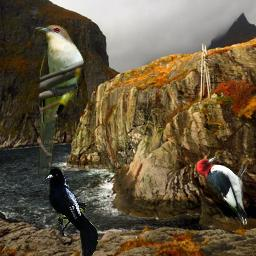Crow: (45, 167, 98, 256)
Cuckoo: (34, 24, 85, 175)
Woodpecker: (196, 156, 247, 225)
